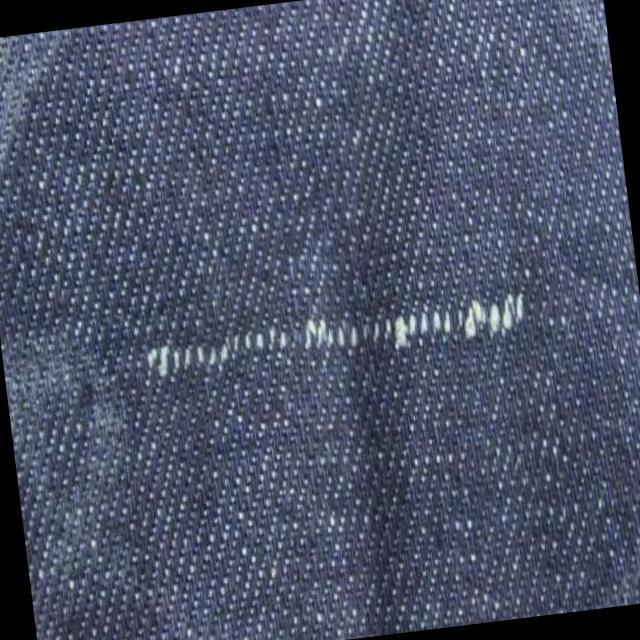Warp_Weft: (140, 295, 526, 380)
